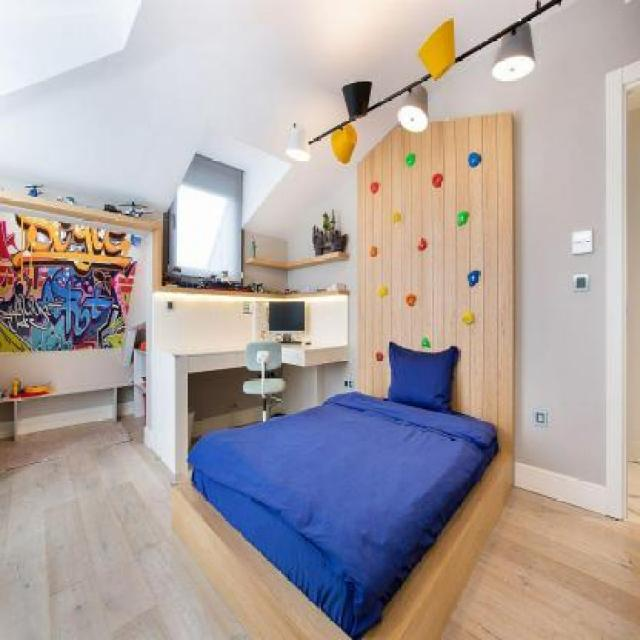Floor: (1, 414, 250, 640), (439, 460, 639, 639)
